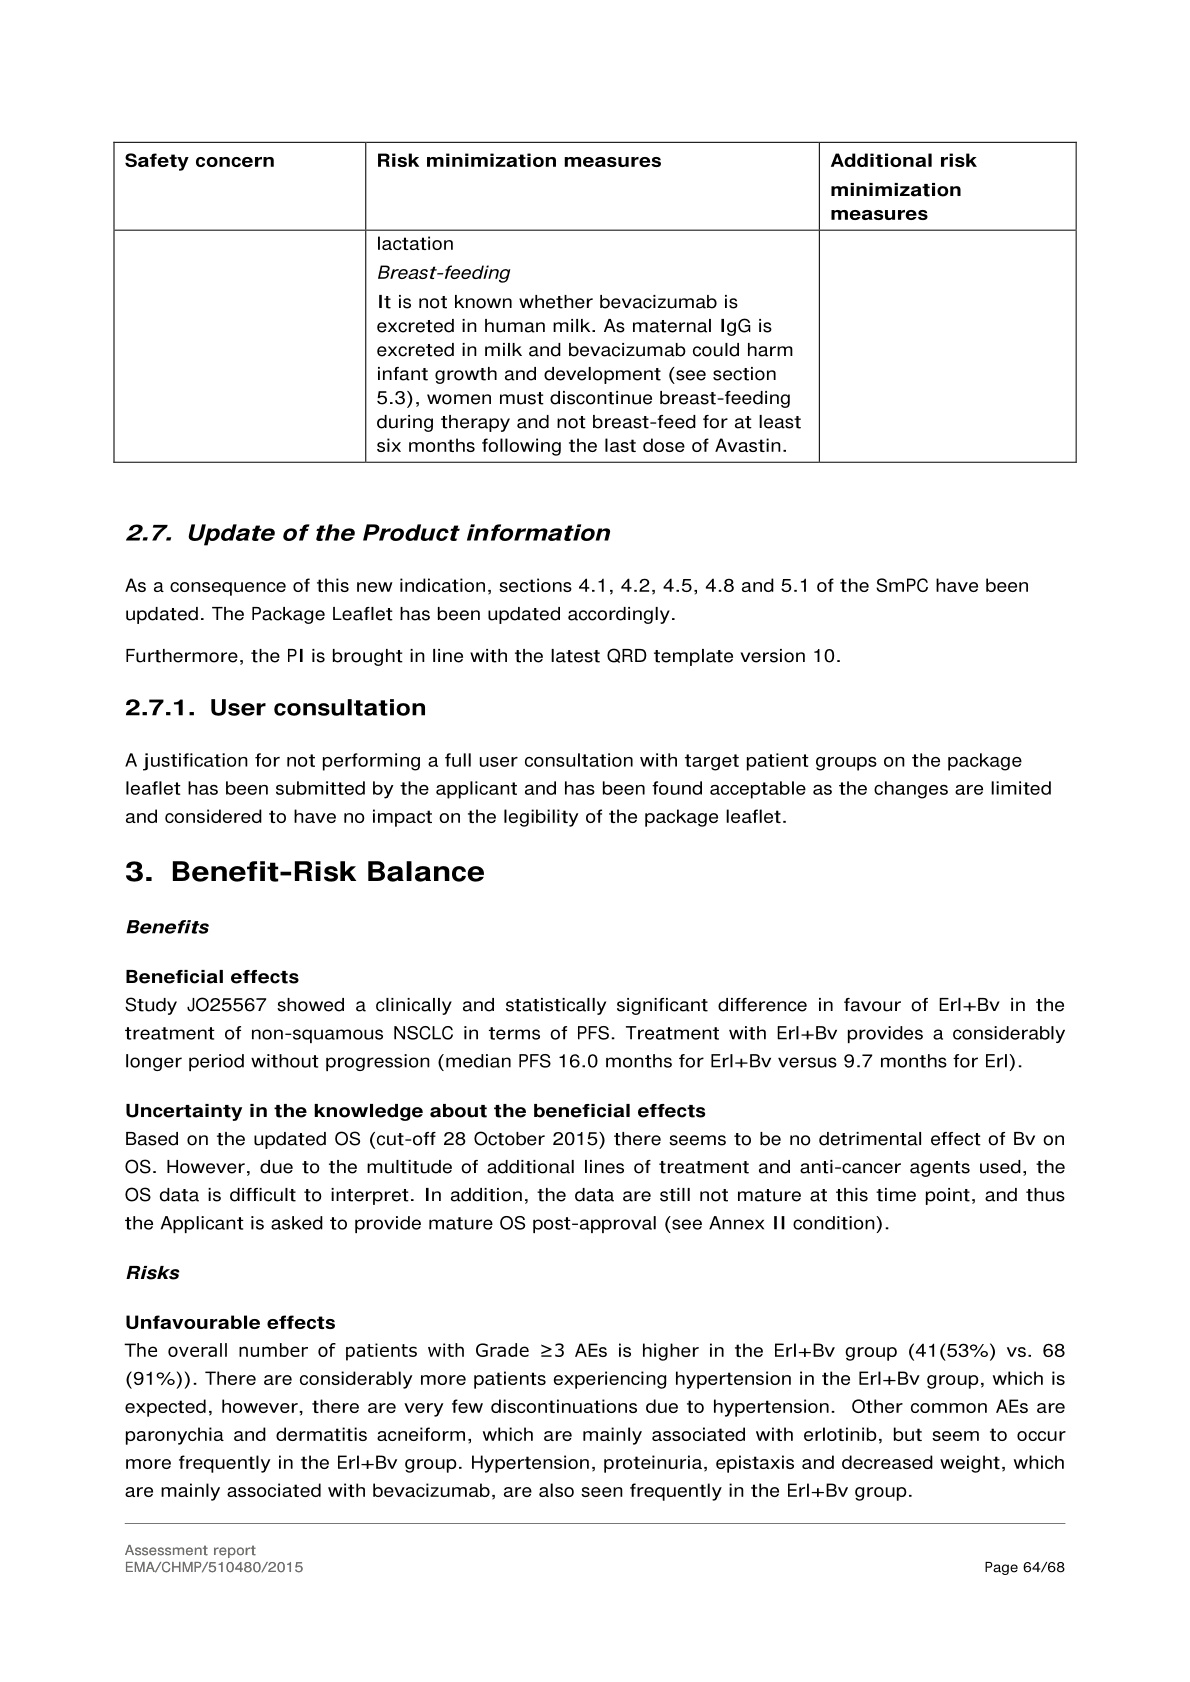full_lined: (112, 140, 1078, 464)
